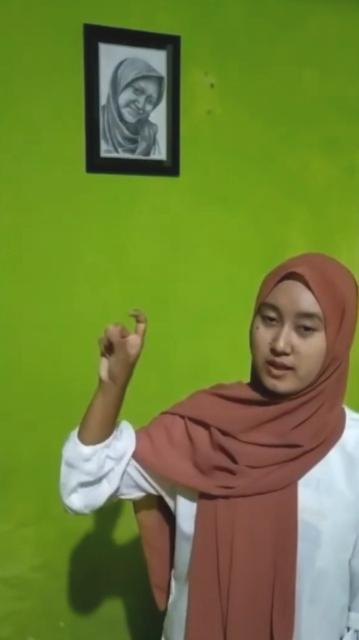X: (97, 300, 154, 390)
